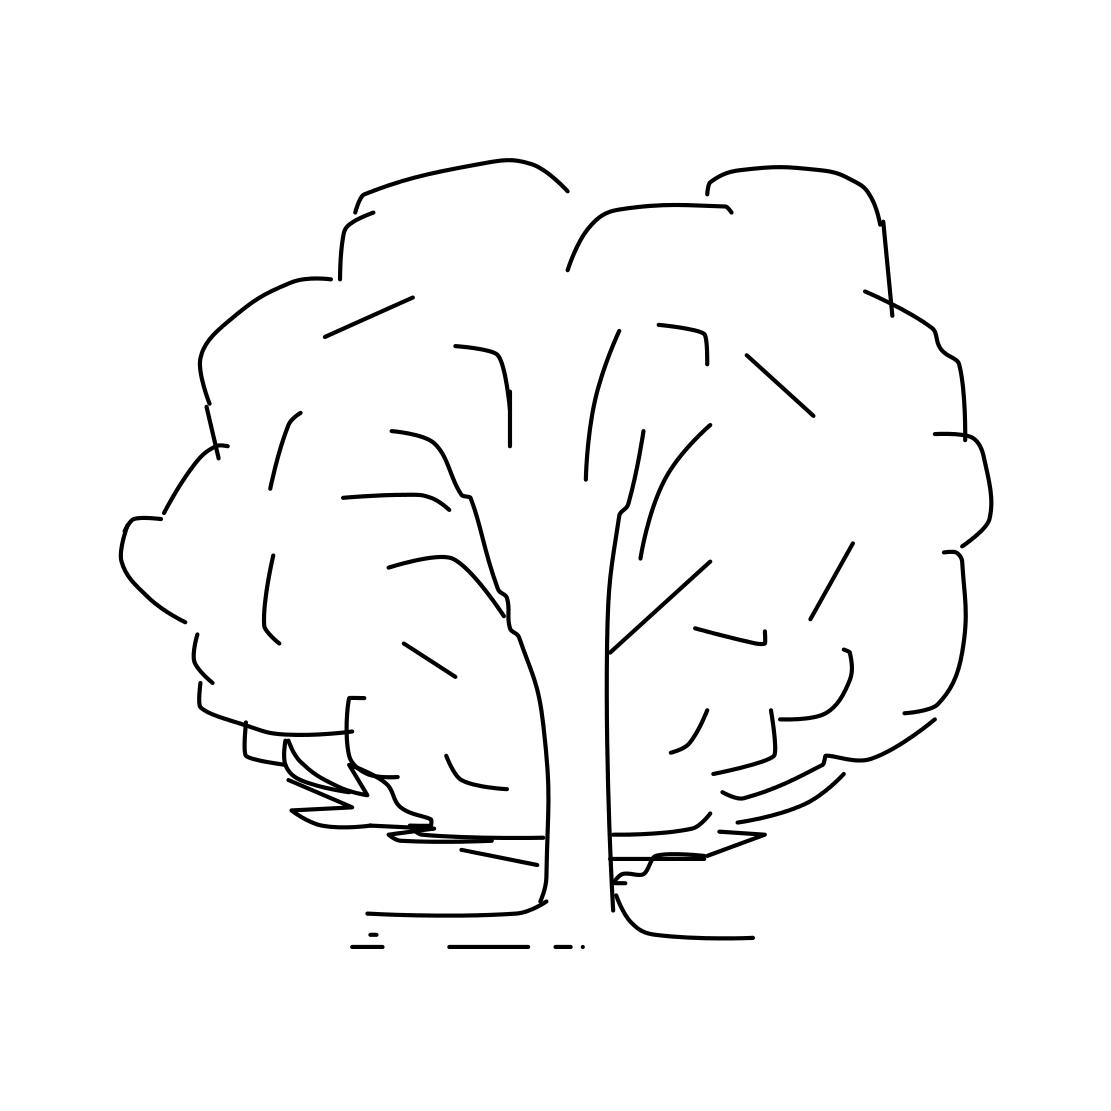Tree: (101, 132, 1019, 961)
